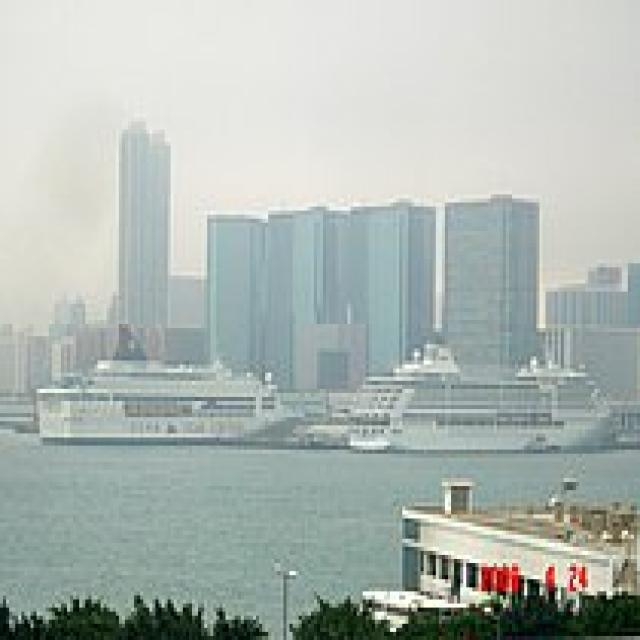Ship: (25, 329, 324, 459), (342, 345, 626, 467)
